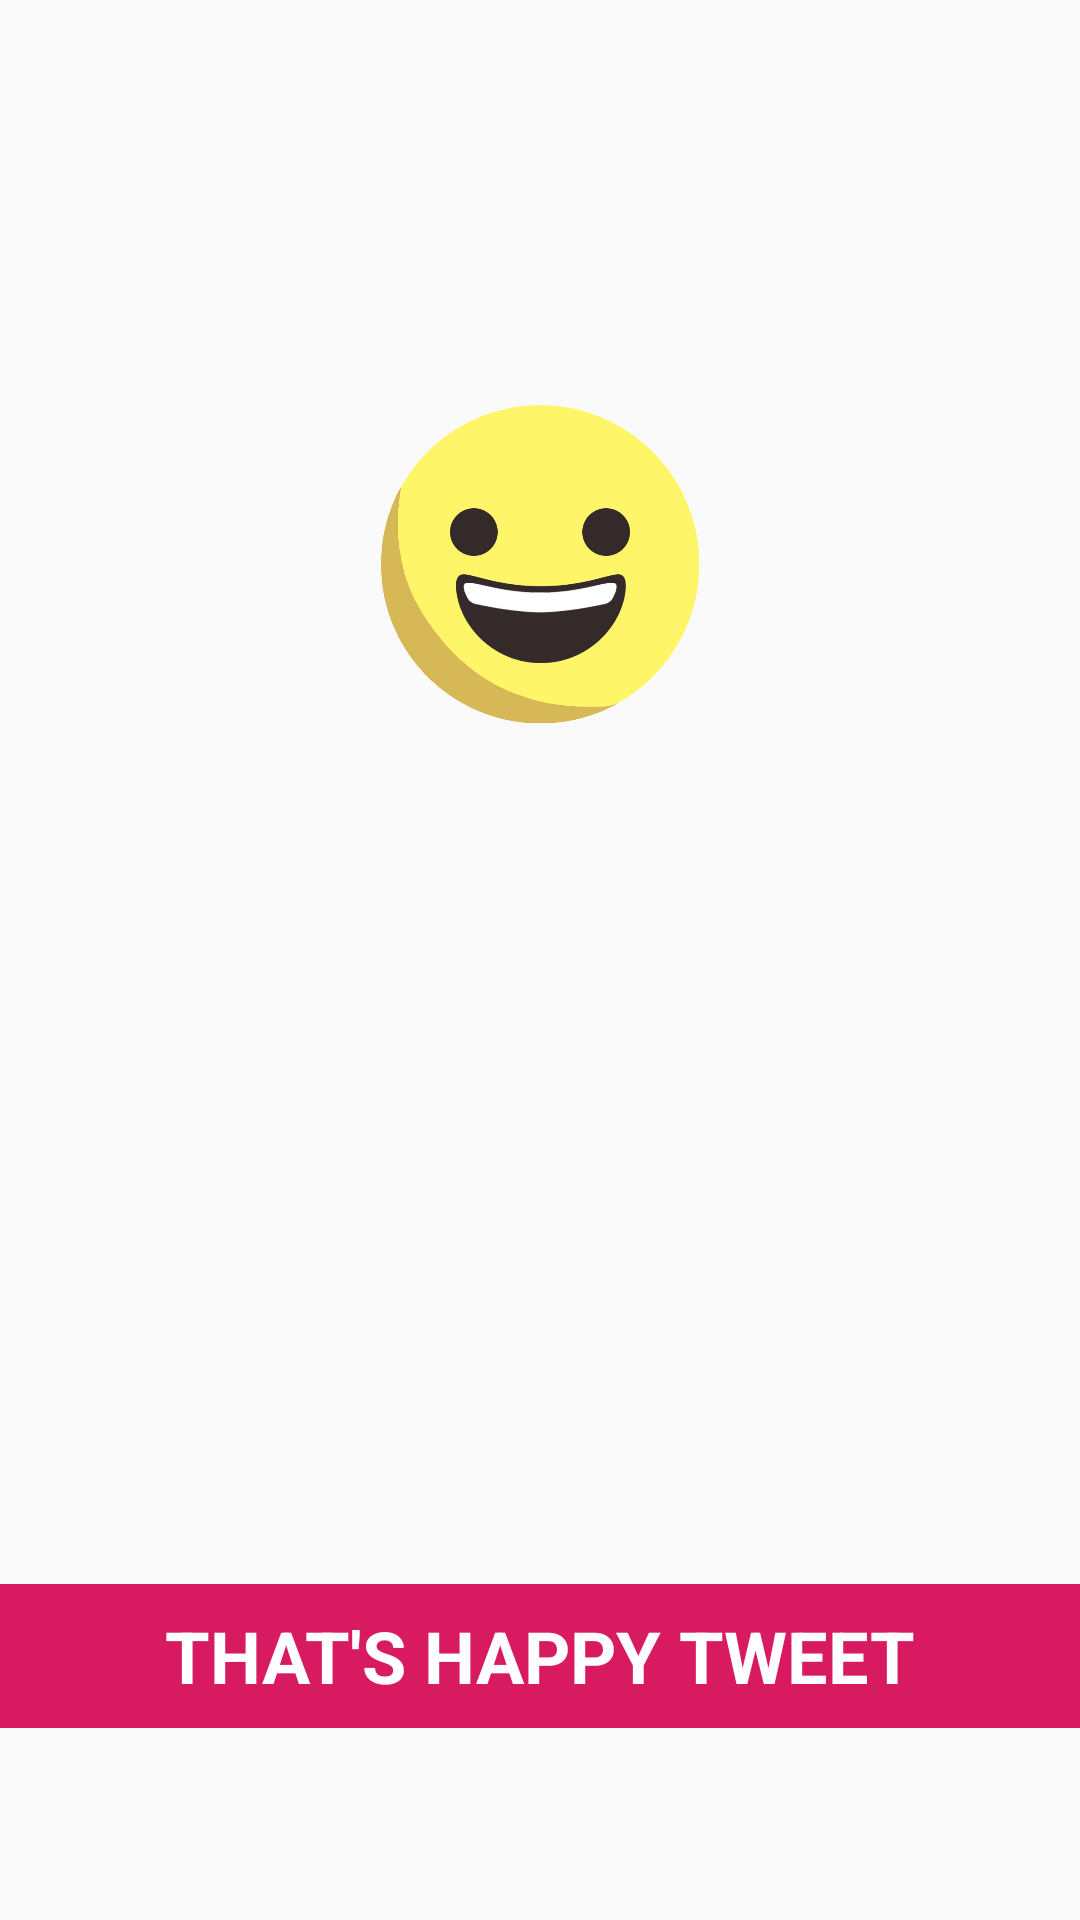

Icon click points for this 1080x1920 phone screenshot, format (x,y):
happy: (540,564)
